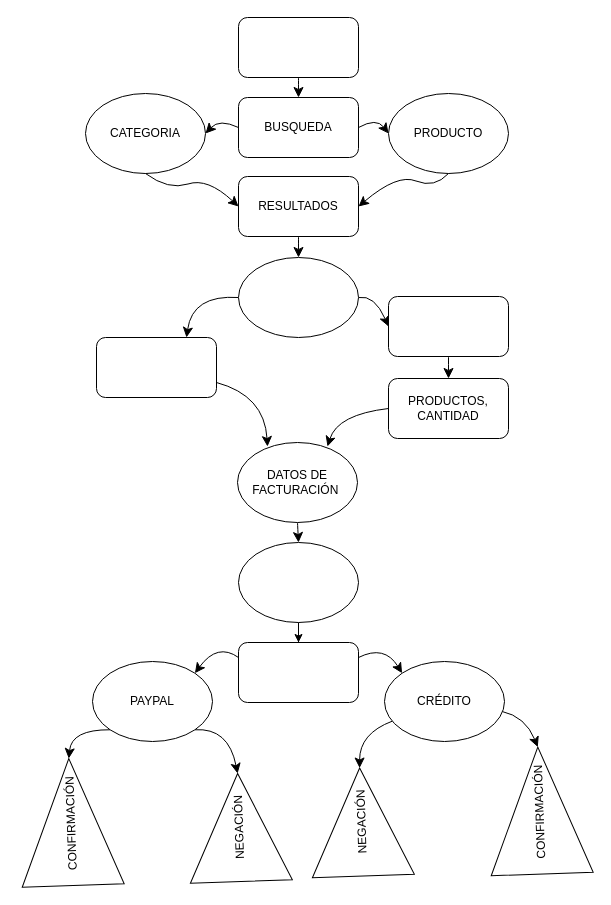
This 611x905 diagram has some shape labels left out. The centre of each missing label's shape, as x and y in pixels:
CARRITO: point (448, 326)
COMPRA: point (156, 367)
DATOS ENVÍO: point (298, 582)
INICIO DE TIENDA: point (298, 47)
SELECCIÓN DE PRODUCTO: point (298, 297)
TOTAL DE COMPRA: point (298, 672)
